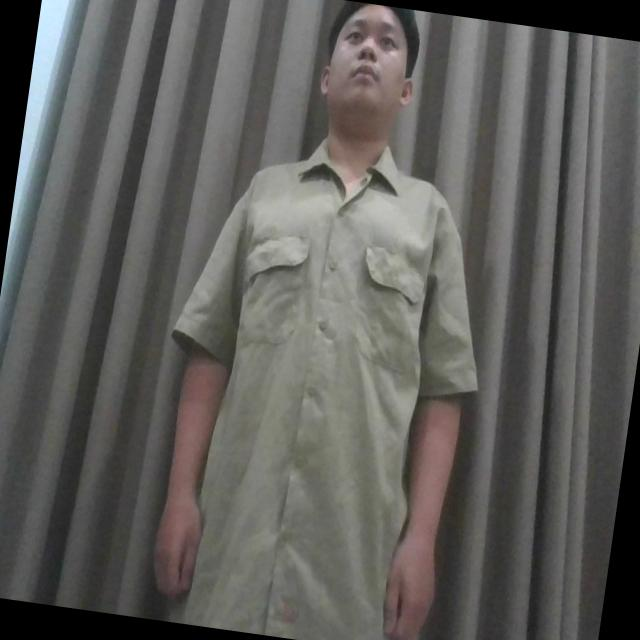short_Sleeve_shirt: (171, 139, 477, 640)
